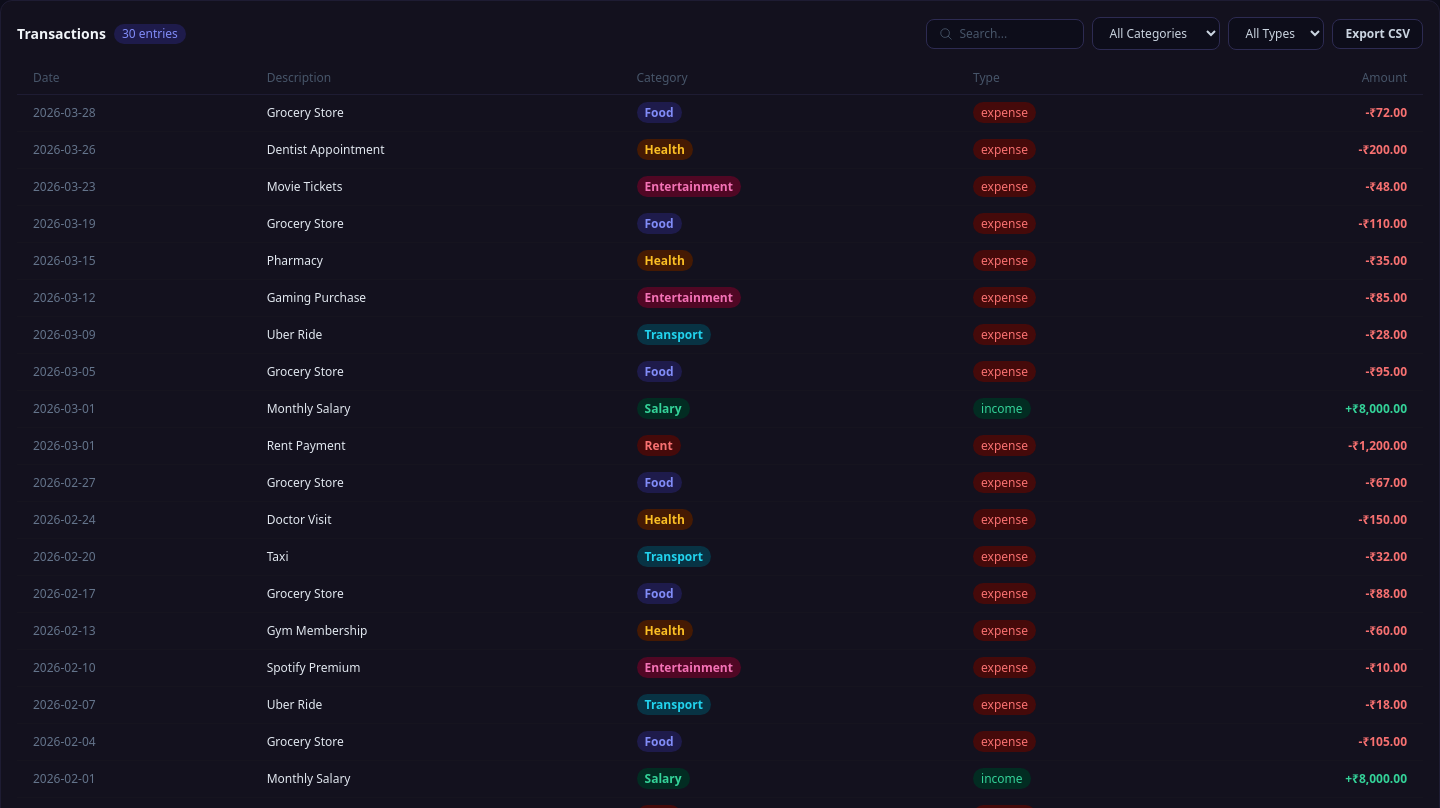
TransactionsTable › filters transactions when searching
The width and height of the screenshot is (1440, 808).
Type "Monthly Salary" into the field with placeholder "Search..." at [1016, 34], box top-left (960, 26), bottom-right (1072, 42)
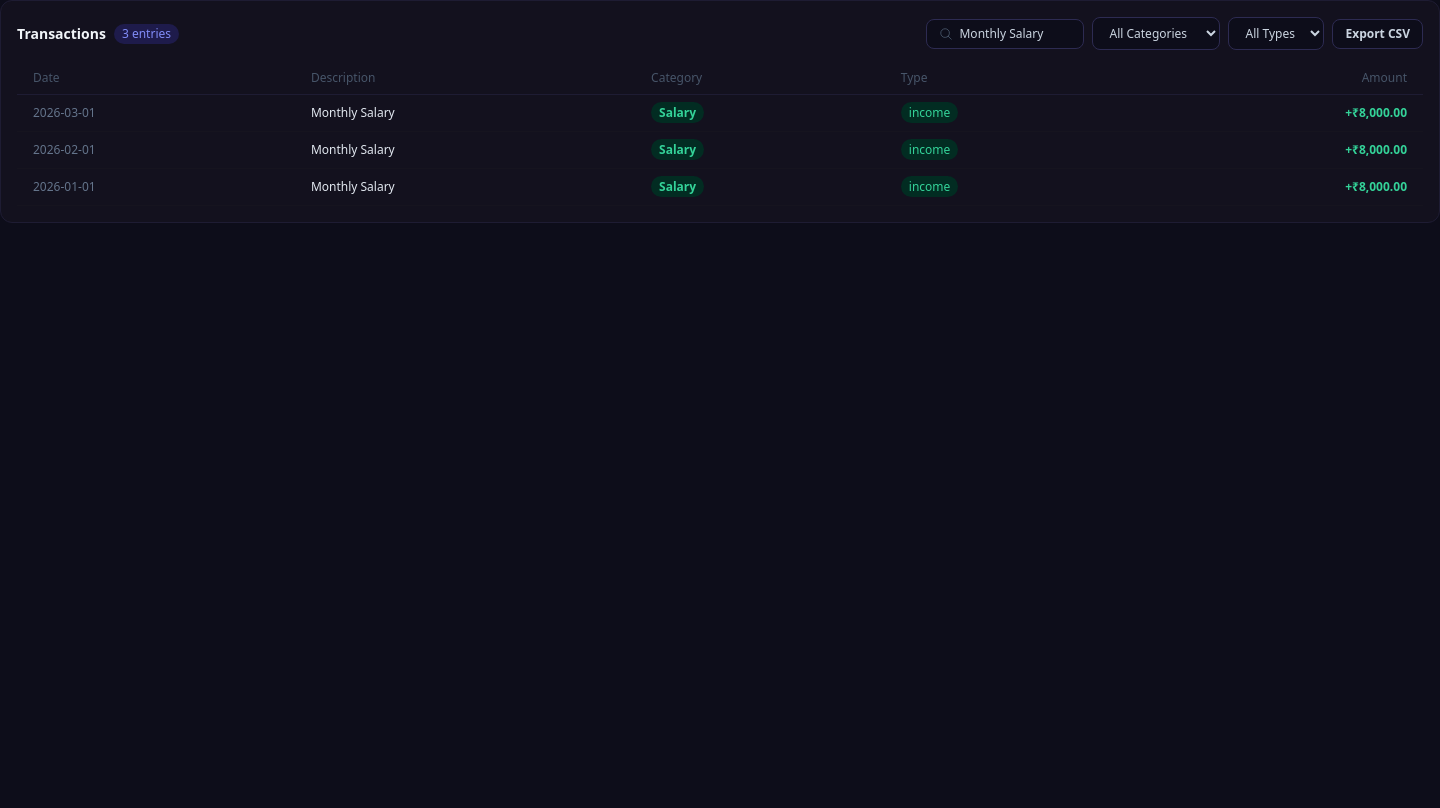
Expected: the text "3 entries" is shown, top-left (114, 24), bottom-right (179, 44)
